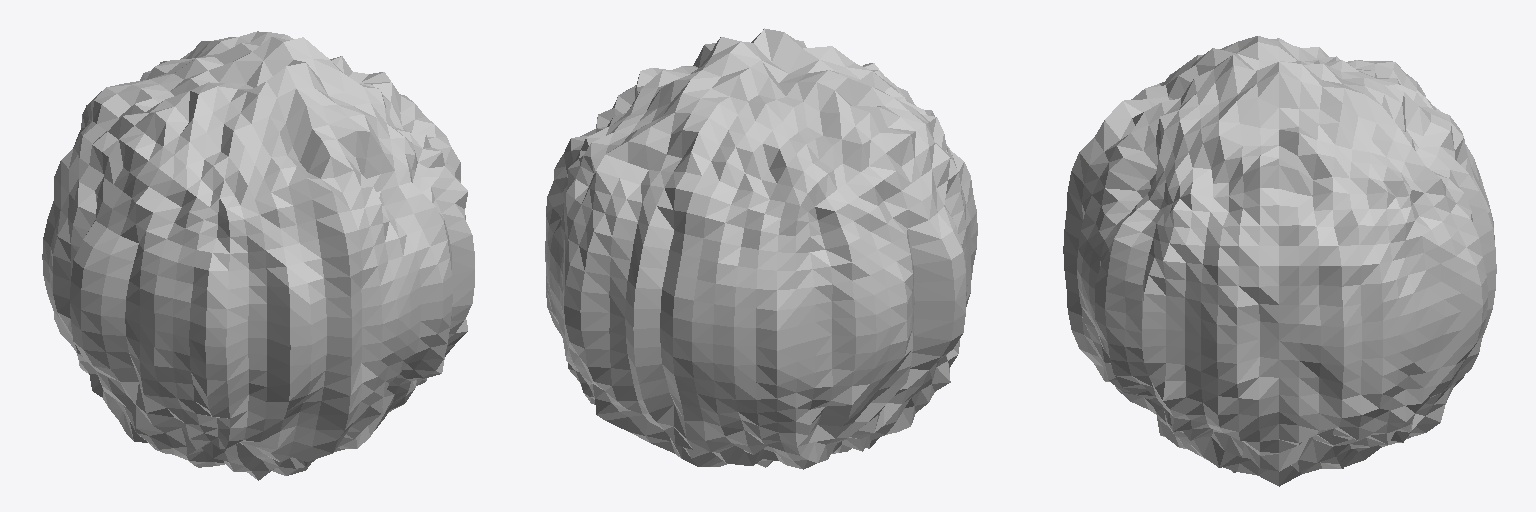
File: asteroid146.obj
3 renders of one model, left to right at view 1: azimuth 30°, elevation 25°; view 2: azimuth 150°, elevation 25°; view 3: azimuth 270°, elevation 25°, orthographic.
Parts seen in each view (by area): view 1: Cube_Cube.002; view 2: Cube_Cube.002; view 3: Cube_Cube.002.
Part boxes in pixels (left/top/right/bottom): Cube_Cube.002: left=42, top=31, right=474, bottom=480; Cube_Cube.002: left=545, top=28, right=977, bottom=469; Cube_Cube.002: left=1063, top=36, right=1496, bottom=486.
Bounding box in the file's own units: 1.74 × 1.84 × 1.74.